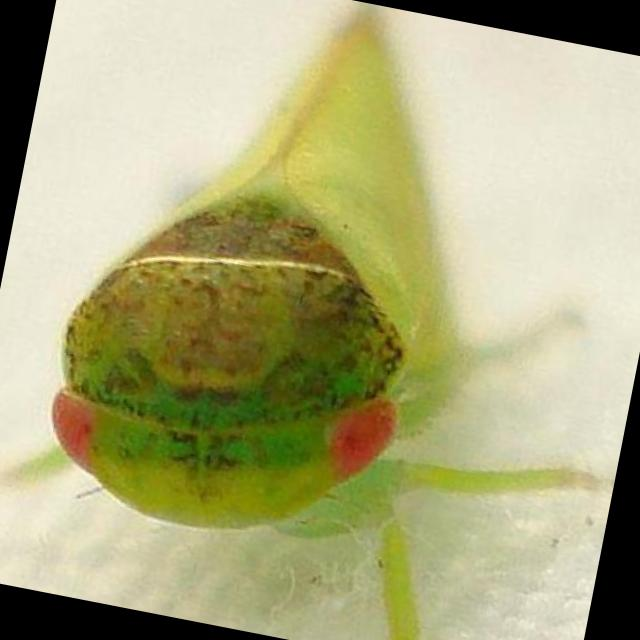green-leafhopper: (33, 0, 509, 563)
